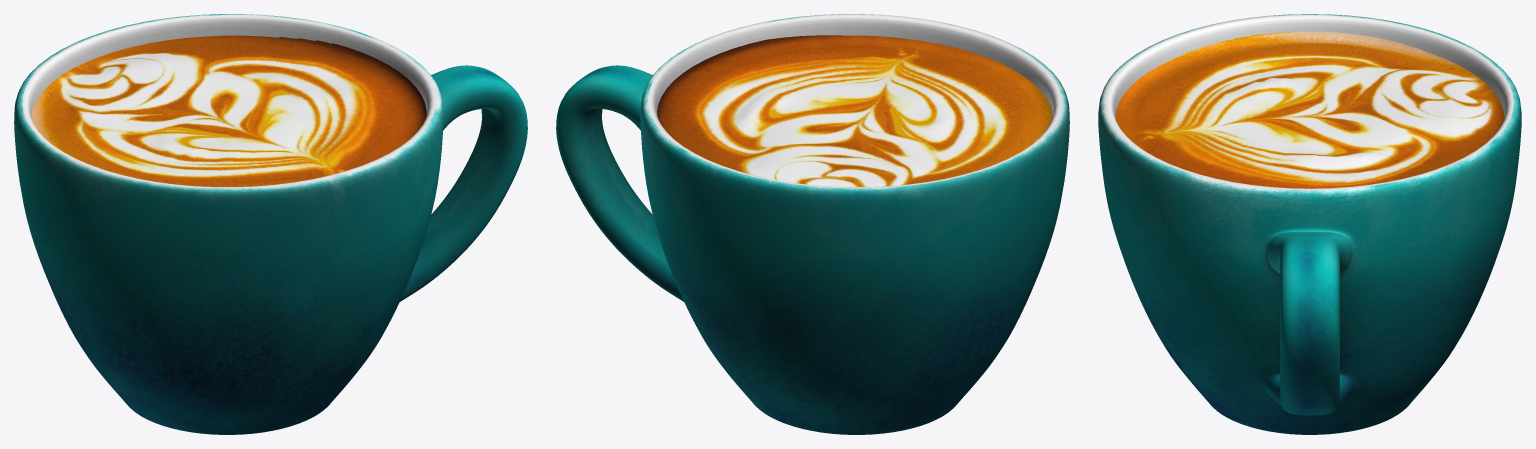
The model's file is coffee_cup.obj.
3 renders of one model, left to right at view 1: azimuth 30°, elevation 25°; view 2: azimuth 150°, elevation 25°; view 3: azimuth 270°, elevation 25°, orthographic.
Parts seen in each view (by area): view 1: obj2, obj1; view 2: obj2, obj1; view 3: obj2, obj1.
Part boxes in pixels (x1,y1,x2,y2): obj2: [14, 14, 527, 434]; obj1: [31, 35, 426, 186]; obj2: [556, 14, 1069, 434]; obj1: [657, 35, 1052, 186]; obj2: [1098, 14, 1521, 434]; obj1: [1115, 31, 1504, 188].
Size of the model in its own units: 92.25 by 53.41 by 71.18.
Materials: 2 (2 with a texture image).
